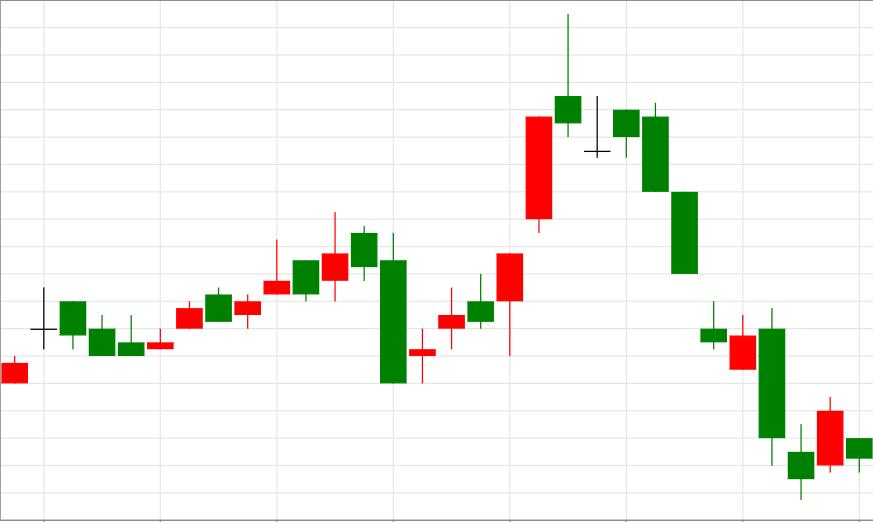shooting_star_fall: (408, 13, 581, 385)
